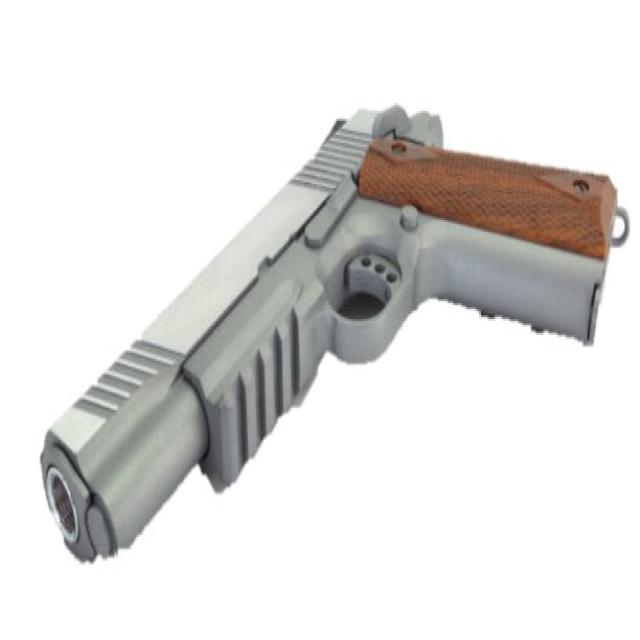pistol: (41, 95, 633, 565)
